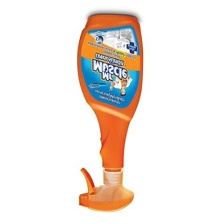cleaning_solution: (73, 11, 145, 214)
